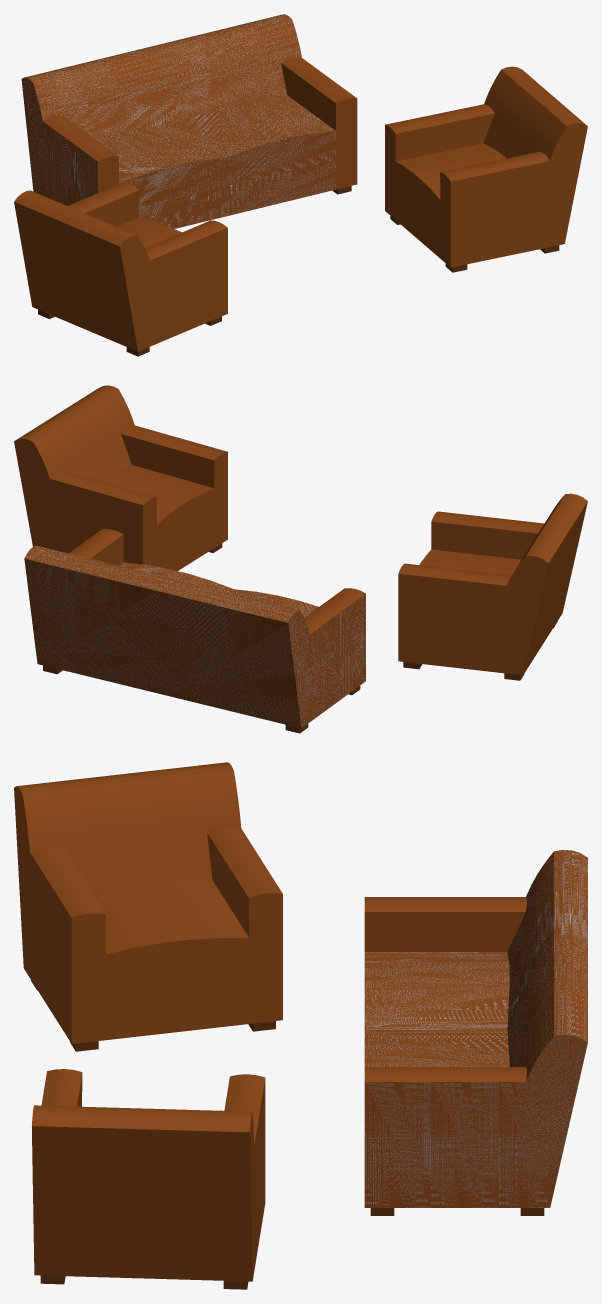
File: Sofas.fbx
3 renders of one model, top to bottom at view 1: azimuth 30°, elevation 25°; view 2: azimuth 150°, elevation 25°; view 3: azimuth 270°, elevation 25°, orthographic. The views are drawn at different scales.
Visible parts, largest first — view 1: sofa_s1_2, Group2, sofa_s1_1, Group3; view 2: sofa_s1_2, sofa_s1_1, Group3, Group2; view 3: sofa_s1_1, Group2, sofa_s1_2, Group3.
Boxes of the visible parts, x1=… form: sofa_s1_2: x1=385, y1=66, x2=587, y2=267; Group2: x1=154, y1=14, x2=357, y2=215; sofa_s1_1: x1=14, y1=183, x2=227, y2=351; Group3: x1=21, y1=46, x2=227, y2=228; sofa_s1_2: x1=14, y1=385, x2=227, y2=570; sofa_s1_1: x1=398, y1=493, x2=587, y2=675; Group3: x1=156, y1=578, x2=365, y2=728; Group2: x1=24, y1=529, x2=233, y2=695; sofa_s1_1: x1=14, y1=762, x2=282, y2=1043; Group2: x1=364, y1=942, x2=587, y2=1207; sofa_s1_2: x1=31, y1=1069, x2=265, y2=1281; Group3: x1=364, y1=850, x2=587, y2=1029.
Bounding box in the file's own units: 3.75 × 0.8711 × 2.47.
